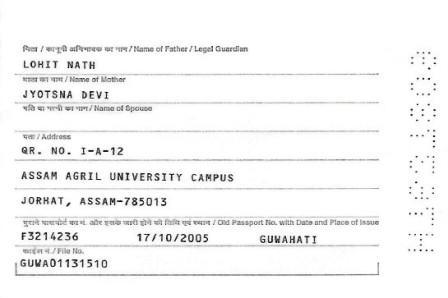File_no: (16, 252, 113, 275)
address: (17, 143, 273, 219)
father_name: (19, 51, 103, 74)
mother_name: (19, 83, 112, 104)
old_passport_details: (14, 228, 324, 247)
